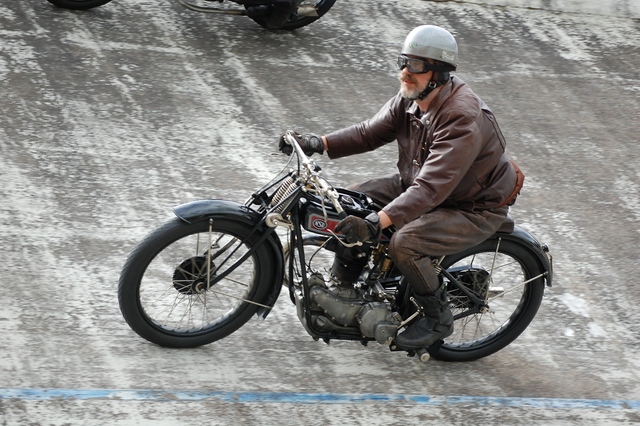helmet: (400, 22, 464, 70)
